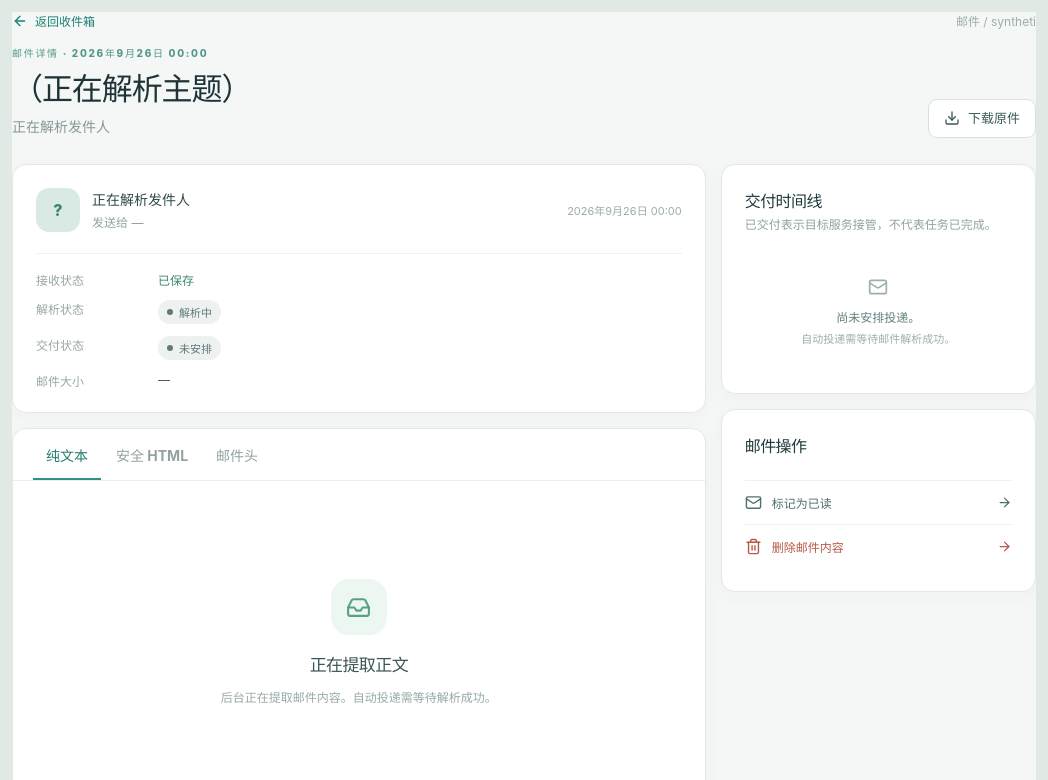
Test: distinguishes parsing content from a parsed empty email
The width and height of the screenshot is (1048, 780).
Expected: the heading "（正在解析主题）" is shown, [12,71,251,108]
Expected: the text "正在解析发件人" is shown 2 times, [12,118,110,135]; [92,190,190,210]
Click the tab "安全 HTML" at (152, 454), box [103,429,201,480]
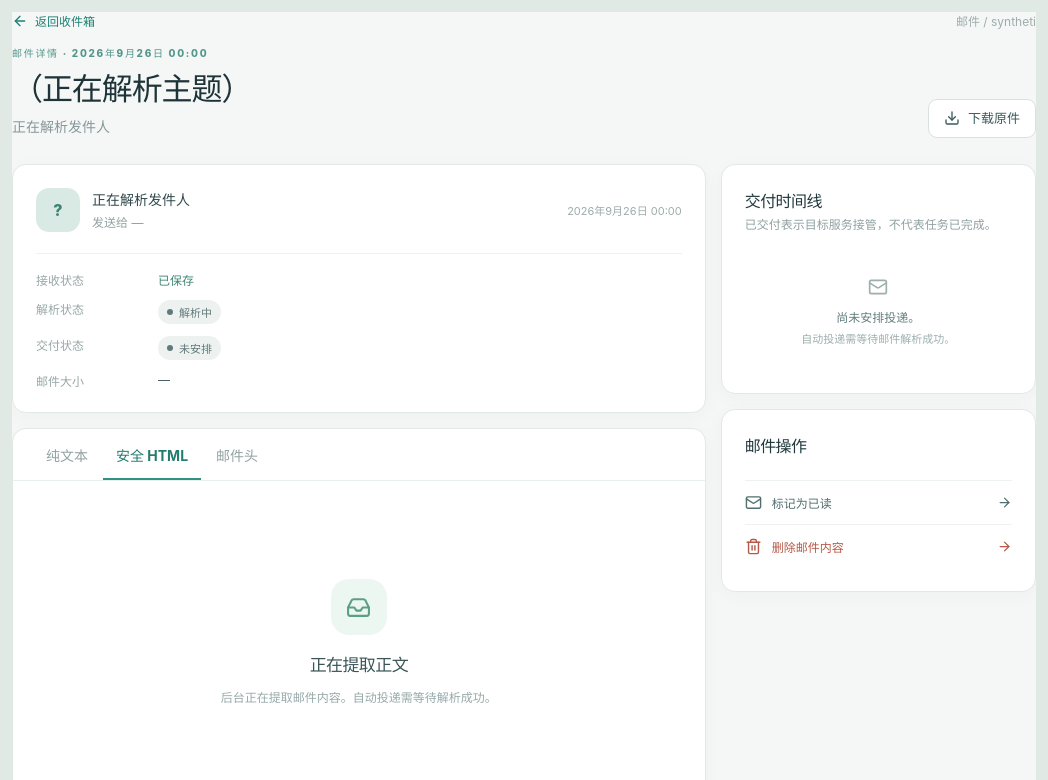
Expected: the heading "正在提取正文" is shown, [310,650,408,681]
Click the tab "邮件头" at (237, 454), box [203,429,271,480]
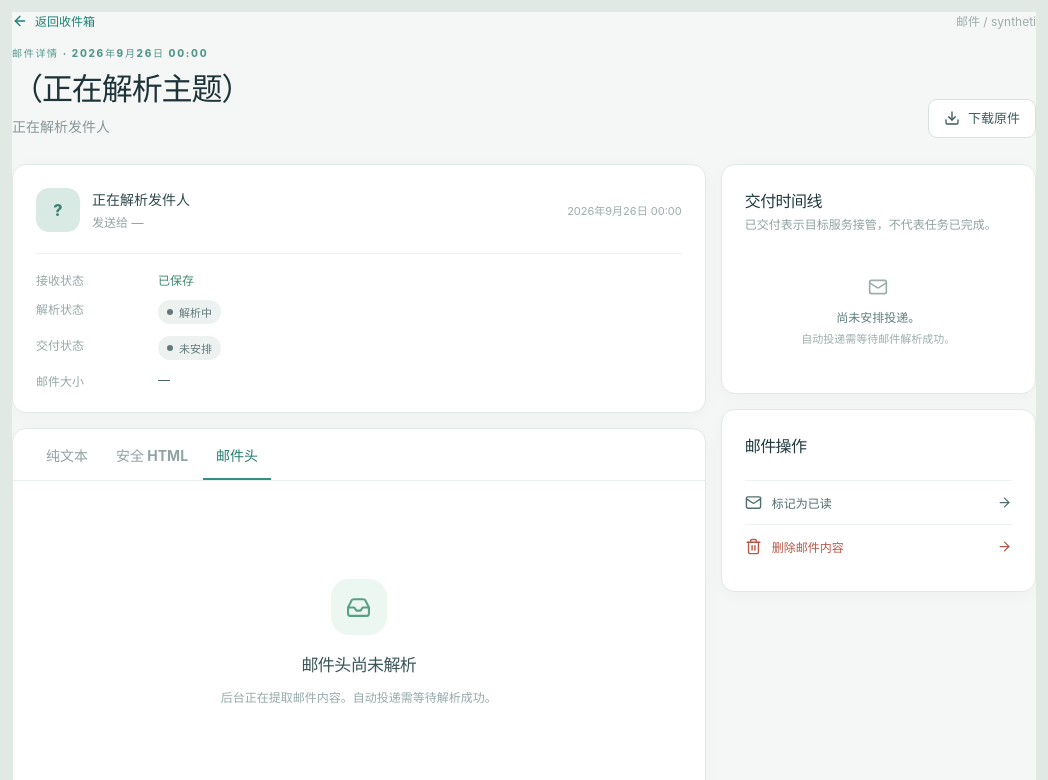
Result: the heading "邮件头尚未解析" is shown at [301,650,416,681]
